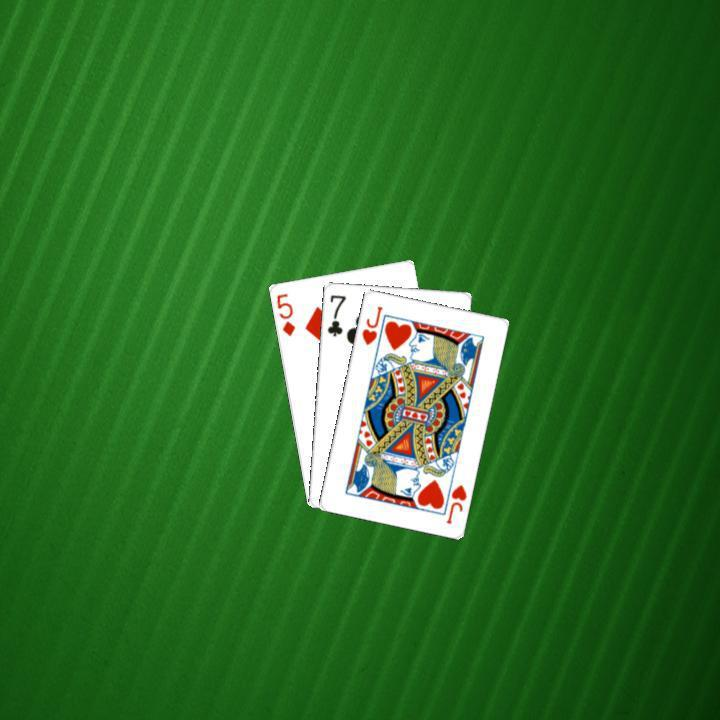5: (272, 289, 297, 338)
7: (323, 290, 348, 338)
J: (357, 301, 384, 347), (442, 480, 468, 525)
